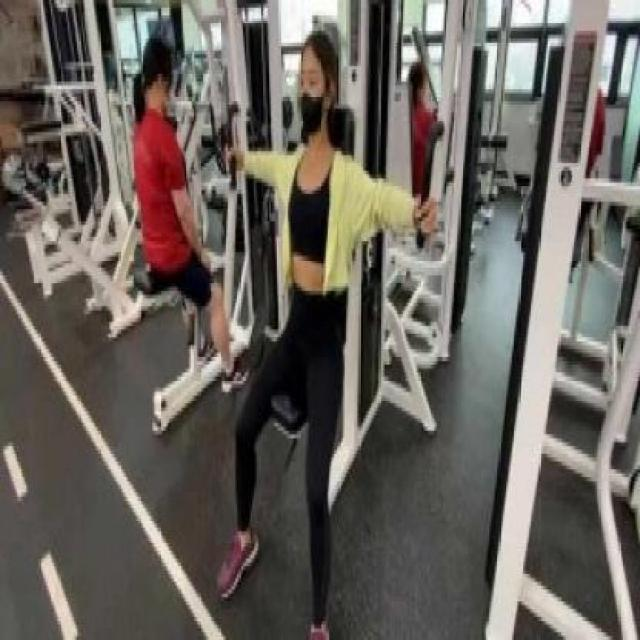chest fly machine: (163, 0, 479, 640)
